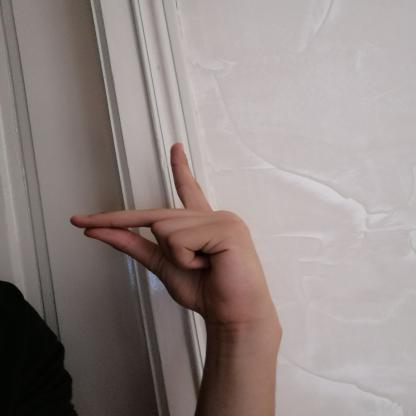TAA: (58, 135, 286, 332)
